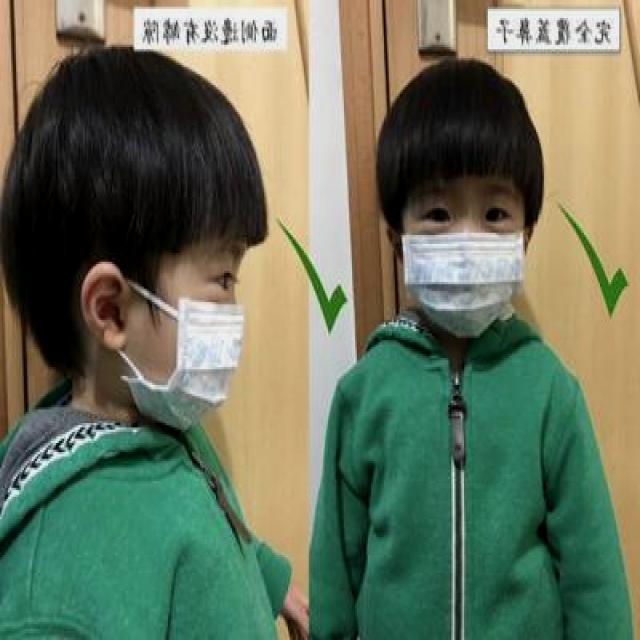face_mask: (120, 237, 248, 434), (400, 181, 528, 340)
head_nohelmet: (106, 67, 276, 249), (403, 52, 512, 202)
person: (306, 45, 624, 640), (0, 56, 295, 640)
